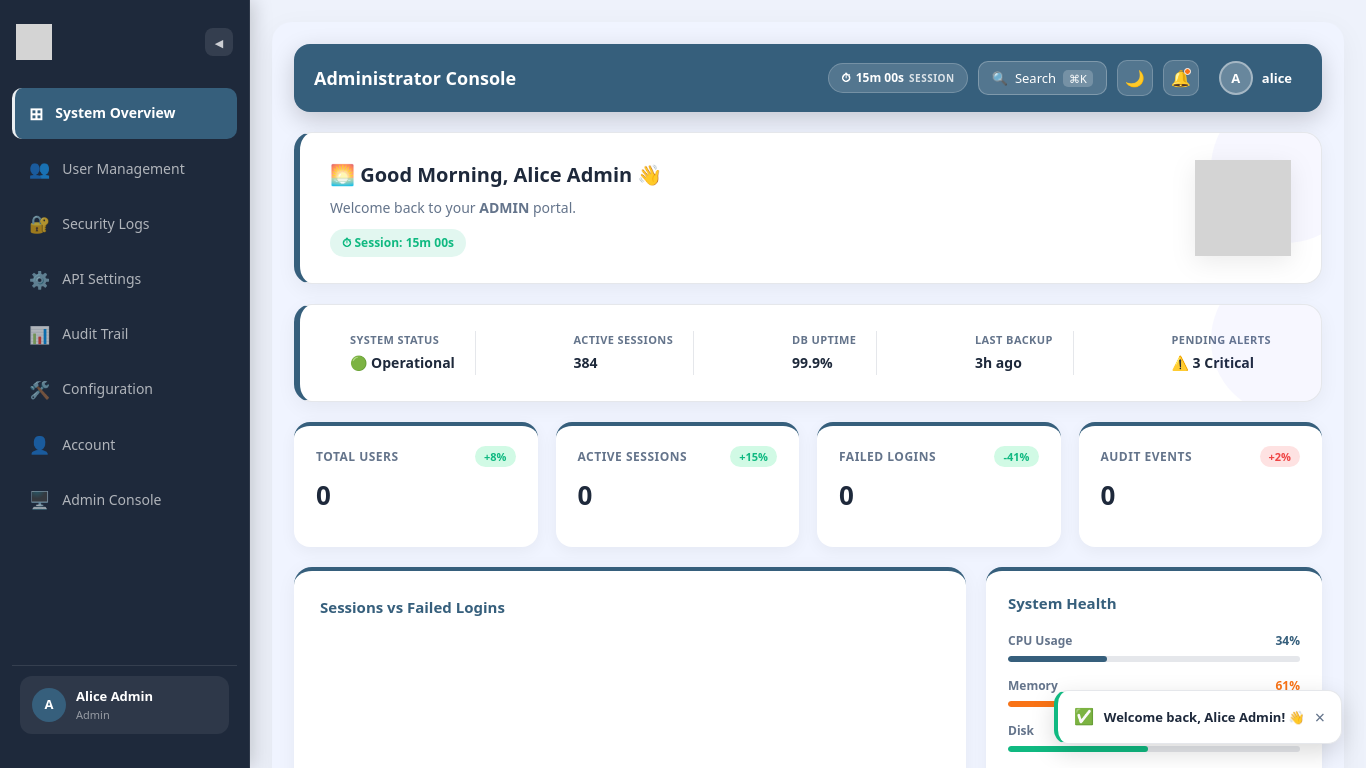
Test: Notifications panel › opens the notifications panel on bell click
Click the button with class "topbar-icon-btn" showing "🔔" at (1181, 78), box top-left (1163, 60), bottom-right (1199, 96)
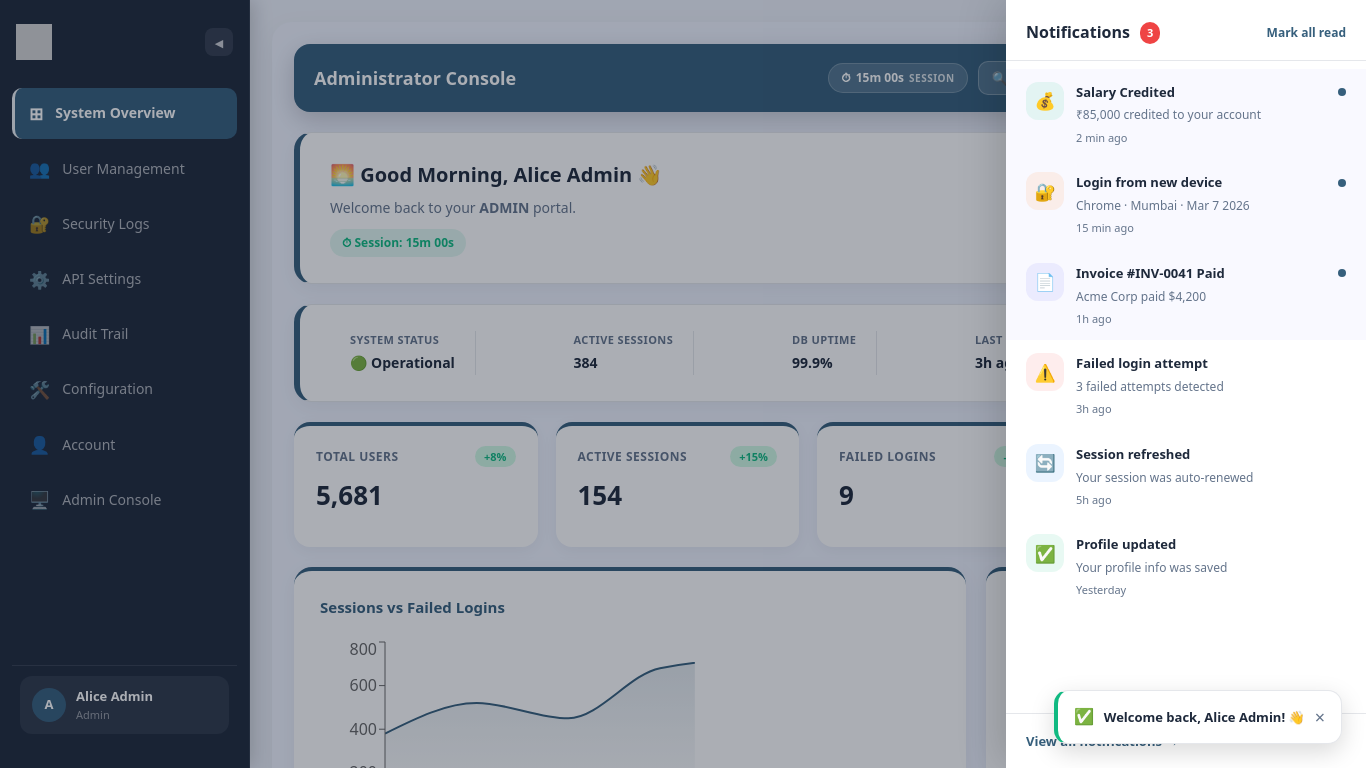
Result: the text "Notifications" is shown at top-left (1026, 21), bottom-right (1130, 43)
